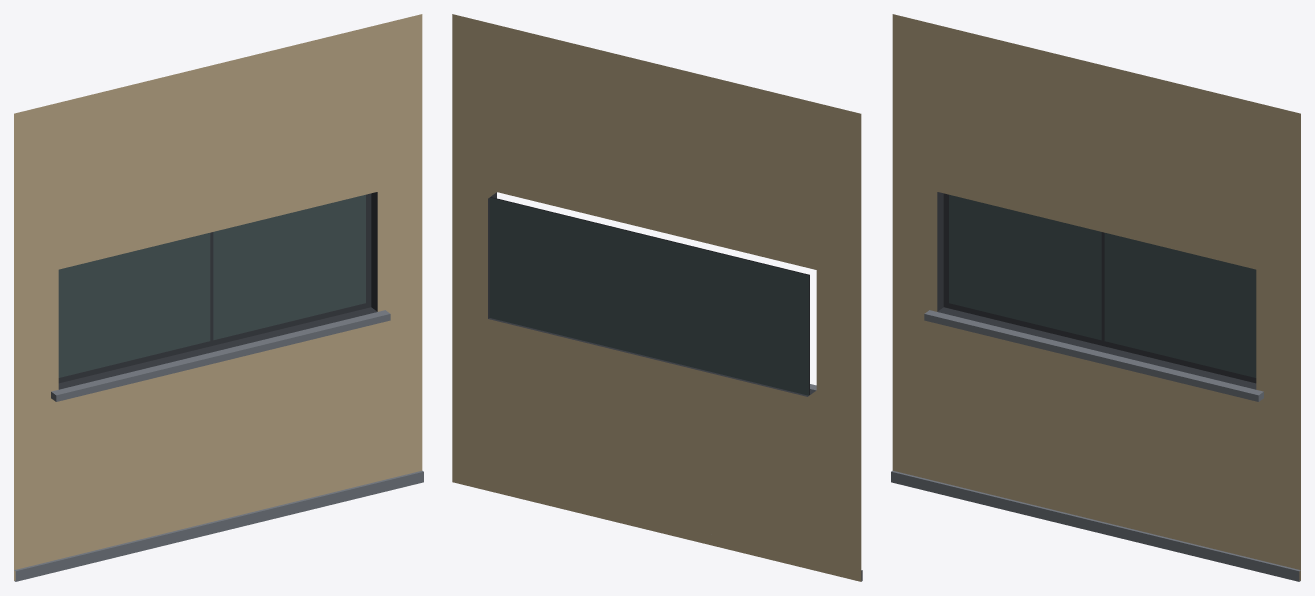
File: mid-w1.fbx
The picture shows the model from 3 angles, left to right: view 1: azimuth 30°, elevation 25°; view 2: azimuth 150°, elevation 25°; view 3: azimuth 330°, elevation 25°; orthographic projection.
Parts seen in each view (by area): view 1: a2000/800/mid-w1; view 2: a2000/800/mid-w1; view 3: a2000/800/mid-w1.
Boxes of the visible parts, <box> form: a2000/800/mid-w1: <box>14,14,423,581</box>; a2000/800/mid-w1: <box>452,14,862,581</box>; a2000/800/mid-w1: <box>891,14,1300,581</box>.
Bounding box in the file's own units: 3.2 × 3.5 × 0.19.
